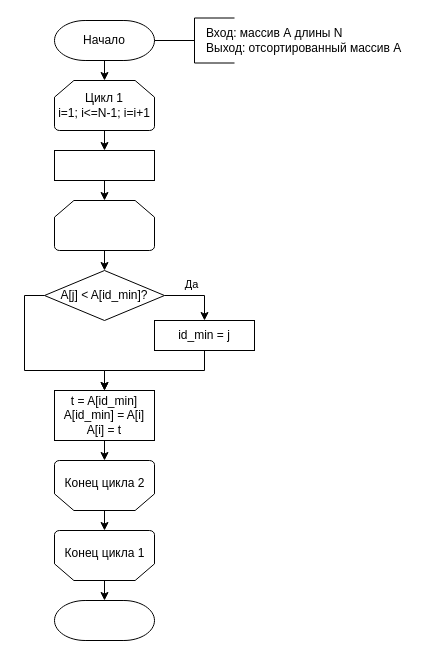
Image size: 432x658. Some labels were removed from this diagram. The shapes that lost their labels are listed below. From the top down, each one's centre as x and y in pixels, then its label:
At point (104, 165): "id_min = i".
At point (104, 225): "Цикл 2 j=i+1; i<=N; j=j+1".
At point (104, 620): "Конец".
